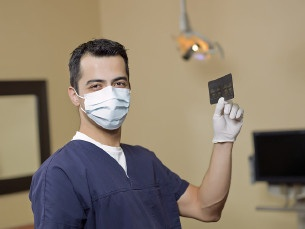Mask: (79, 74, 136, 131)
